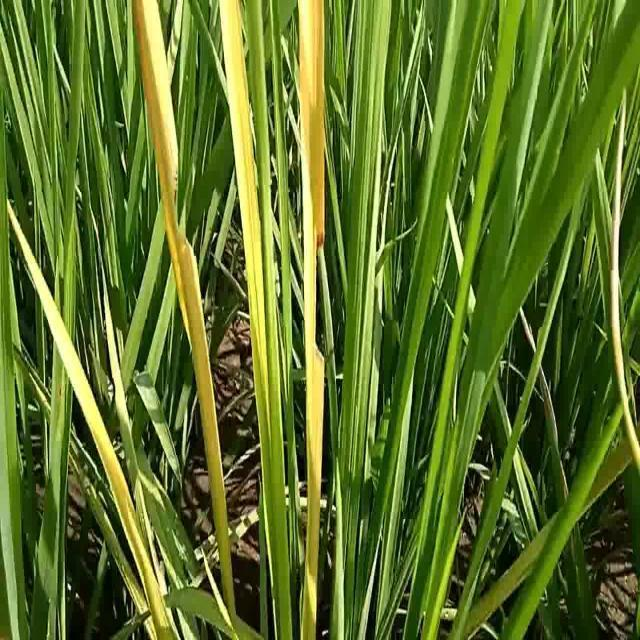Rice Tungro: (3, 197, 158, 585), (130, 4, 236, 519), (215, 1, 284, 488), (294, 2, 336, 572)
